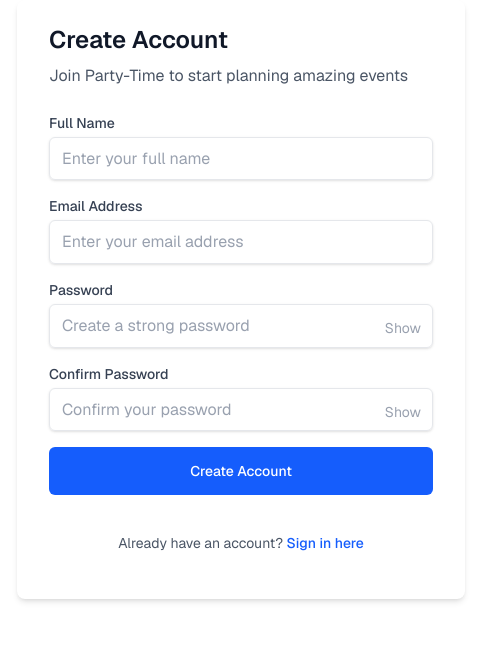
RegisterForm › shows validation errors for weak password
Type "John Doe" into the field labelled "Full Name" at (241, 159), box left=49, top=137, right=433, bottom=180
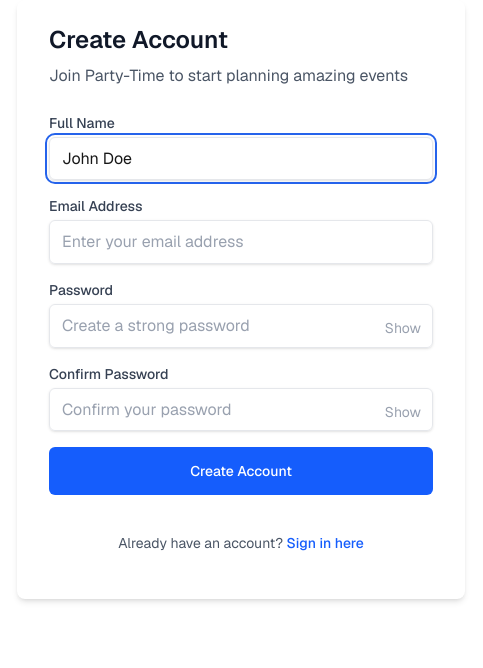
Type "john@example.com" into the field labelled "Email Address" at (241, 242), box left=49, top=220, right=433, bottom=264
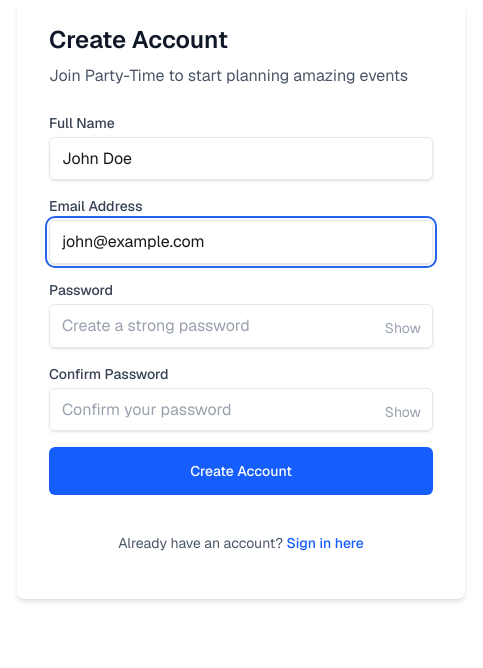
Type "123" into the password field labelled "Password" at (241, 326), box left=49, top=304, right=433, bottom=348
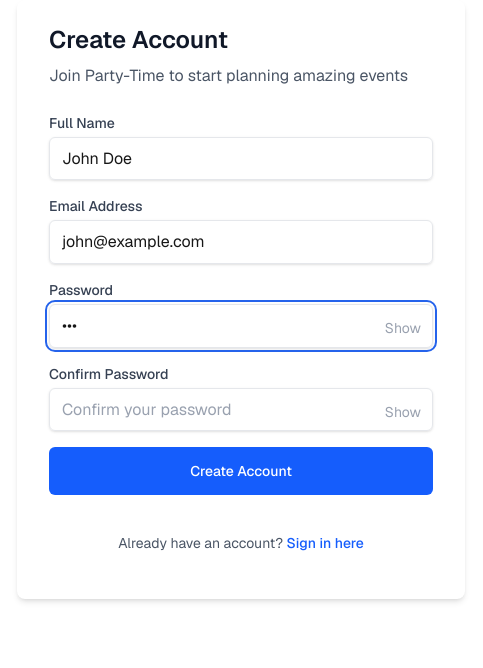
Click the button "Create Account" at (241, 471), box left=49, top=447, right=433, bottom=495
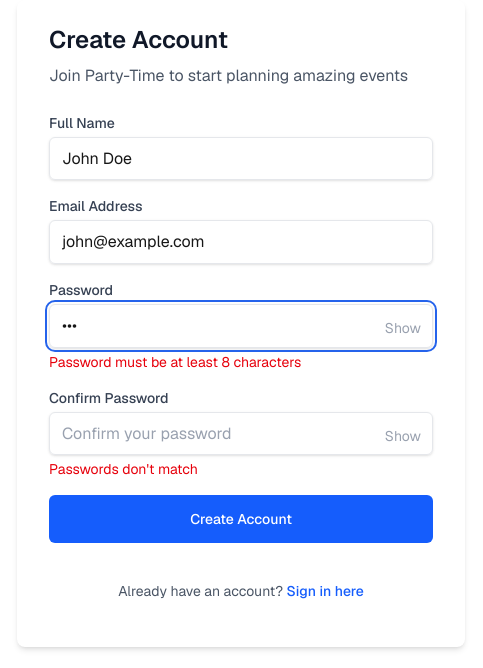
Now the text "Password must be at least 8 characters" is shown, box left=49, top=353, right=301, bottom=371
